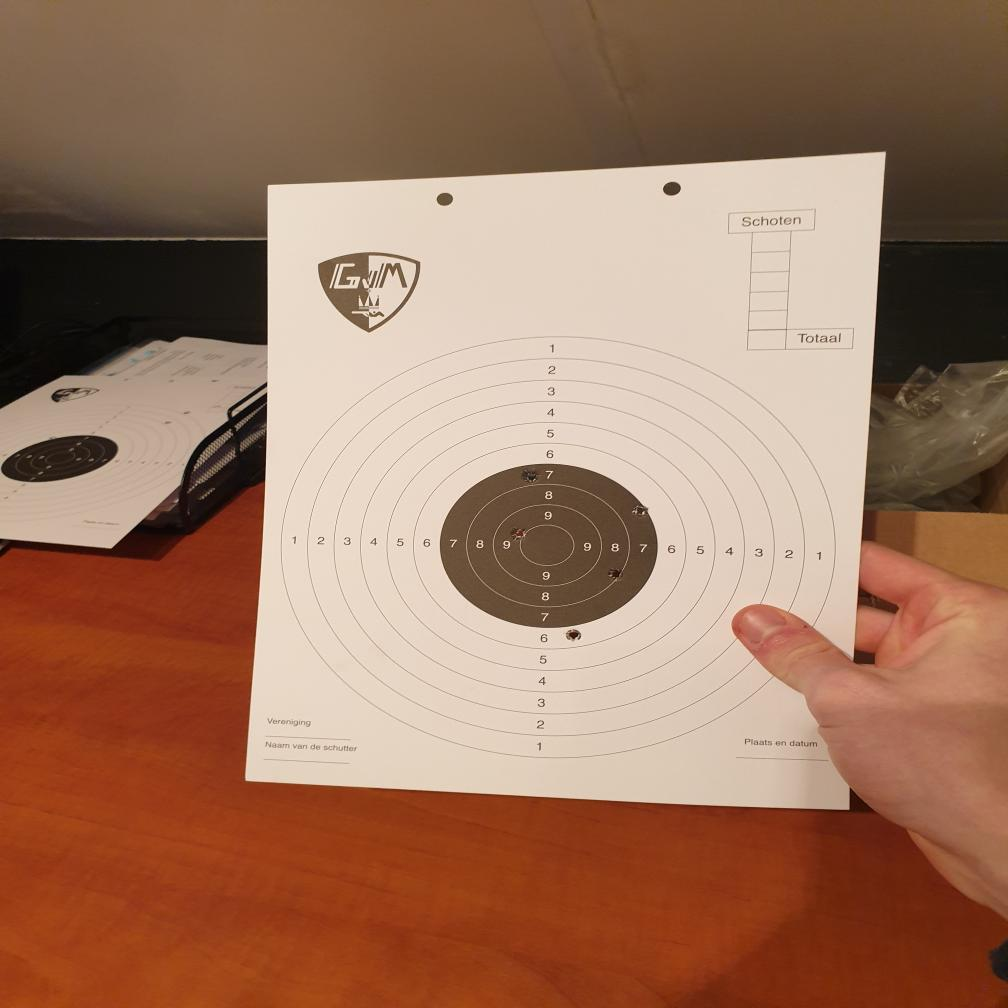10: (509, 526, 529, 540)
6: (564, 628, 584, 642)
7: (518, 468, 541, 485), (628, 504, 650, 518)
8: (606, 567, 626, 581)
Target: (278, 333, 840, 762)
black_contour: (441, 462, 658, 628)
